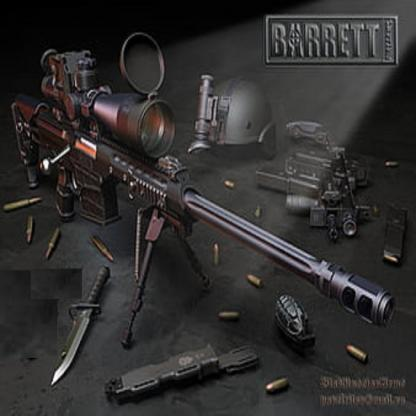Grenade: (274, 288, 317, 350)
Gun: (10, 31, 399, 332), (255, 116, 374, 242)
Knife: (51, 263, 111, 387)
